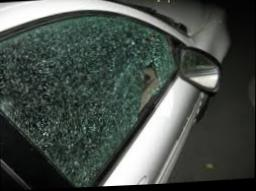Door: (0, 18, 198, 188)
